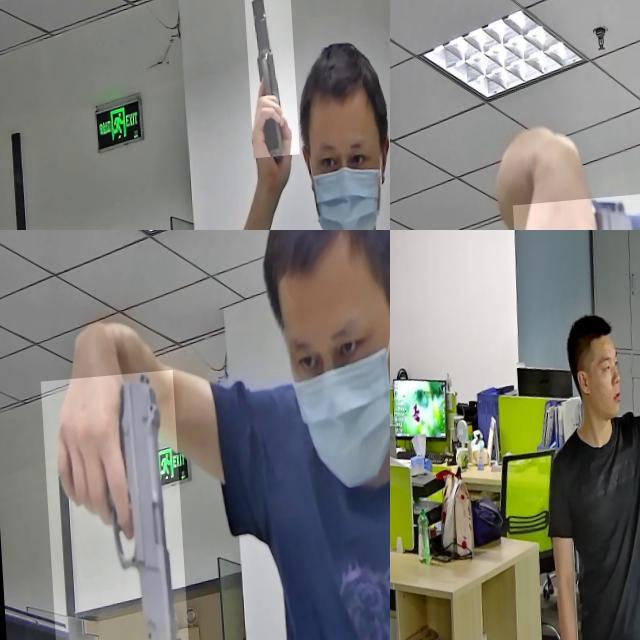gun-knife-thesis - v11 Yolov5 augmented: (36, 373, 182, 640), (241, 0, 294, 164)
